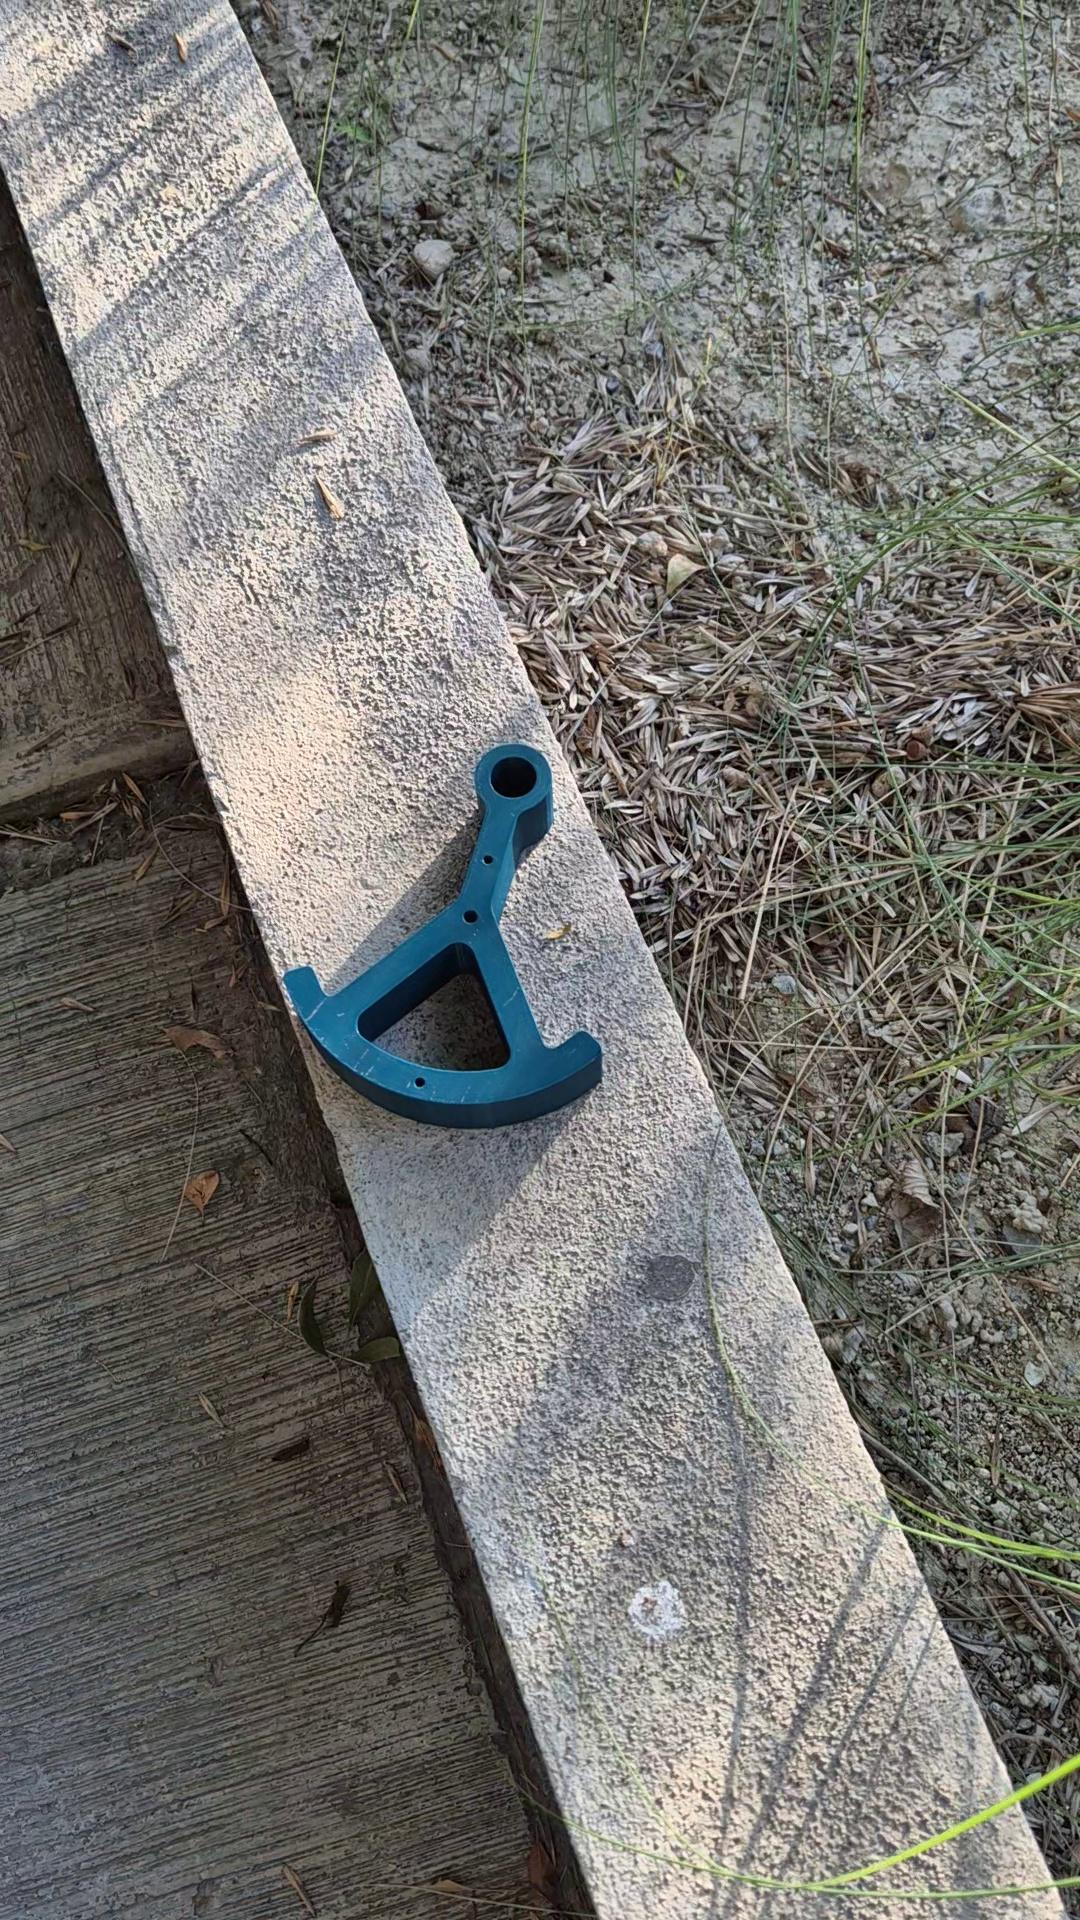Paddles: (280, 742, 605, 1131)
